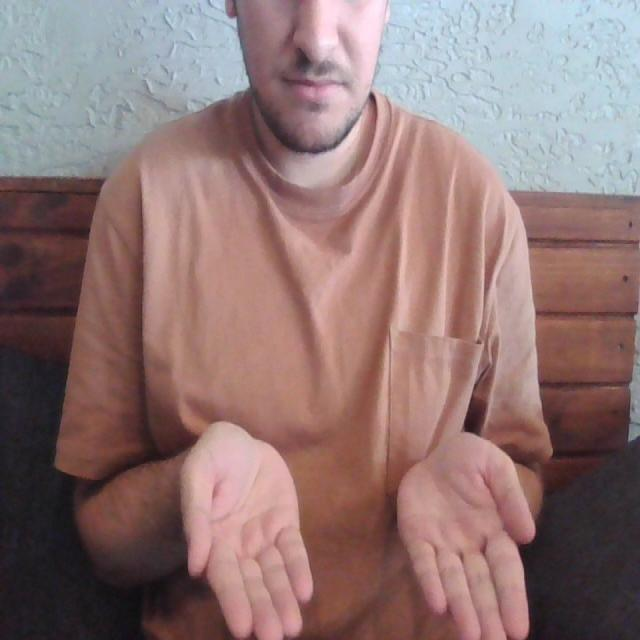Evet: (177, 421, 540, 640)
